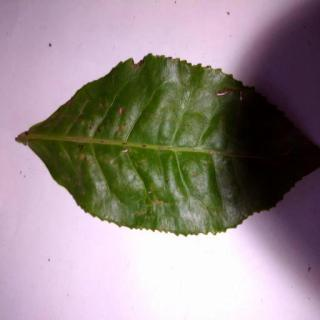Bird Eye Spot: (17, 55, 320, 237)
